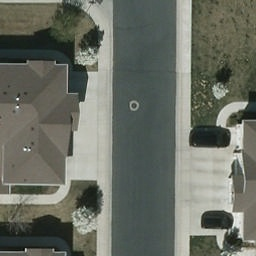car: (191, 129, 231, 147), (199, 212, 234, 230)
